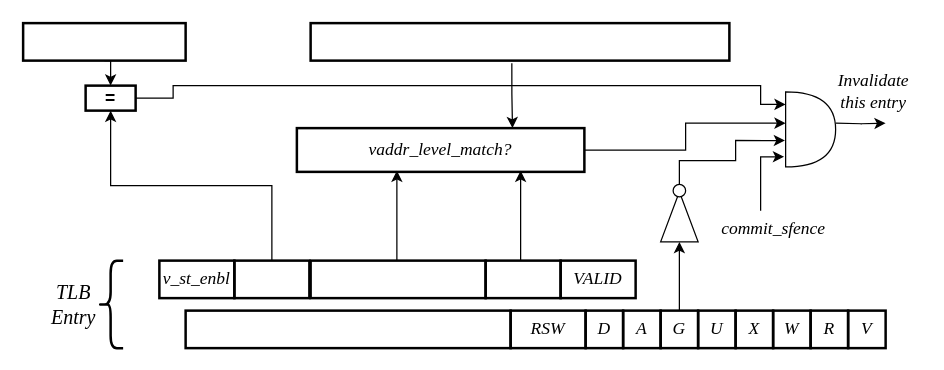
This 944x370 diagram has some shape labels left out. The shapes that lost their labels are listed below. From the top down, each one's box as (x1, y1, x2, y2) in pixels, then its label:
(21, 21, 186, 61): asid_to_be_flushed_i
(309, 21, 730, 61): Virtual Address to be flushed
(232, 259, 310, 299): ASID
(309, 259, 486, 299): VPN
(484, 259, 561, 299): is_page
(184, 309, 511, 349): PPN
